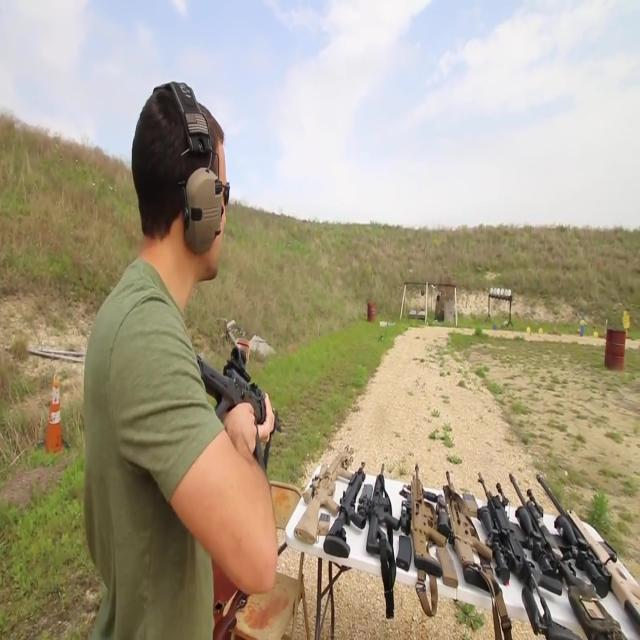Weapon: (278, 417, 640, 640), (152, 316, 302, 518)
